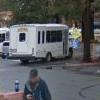Bus: (4, 18, 78, 66)
